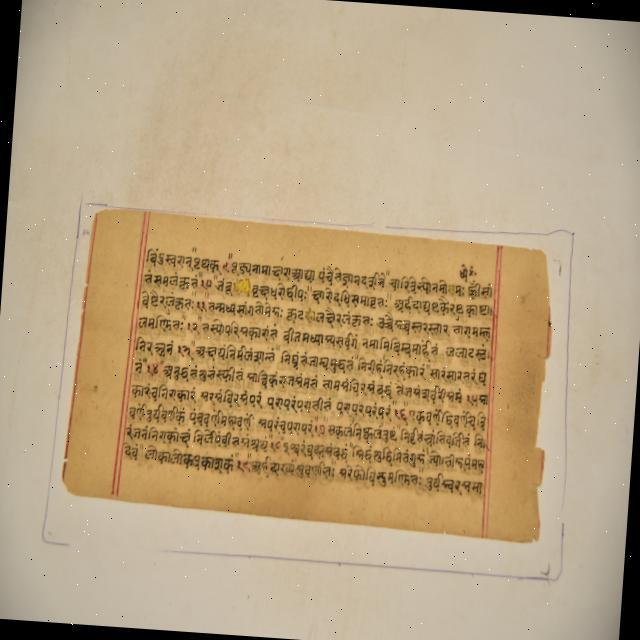text_paragraph: (65, 214, 547, 538)
